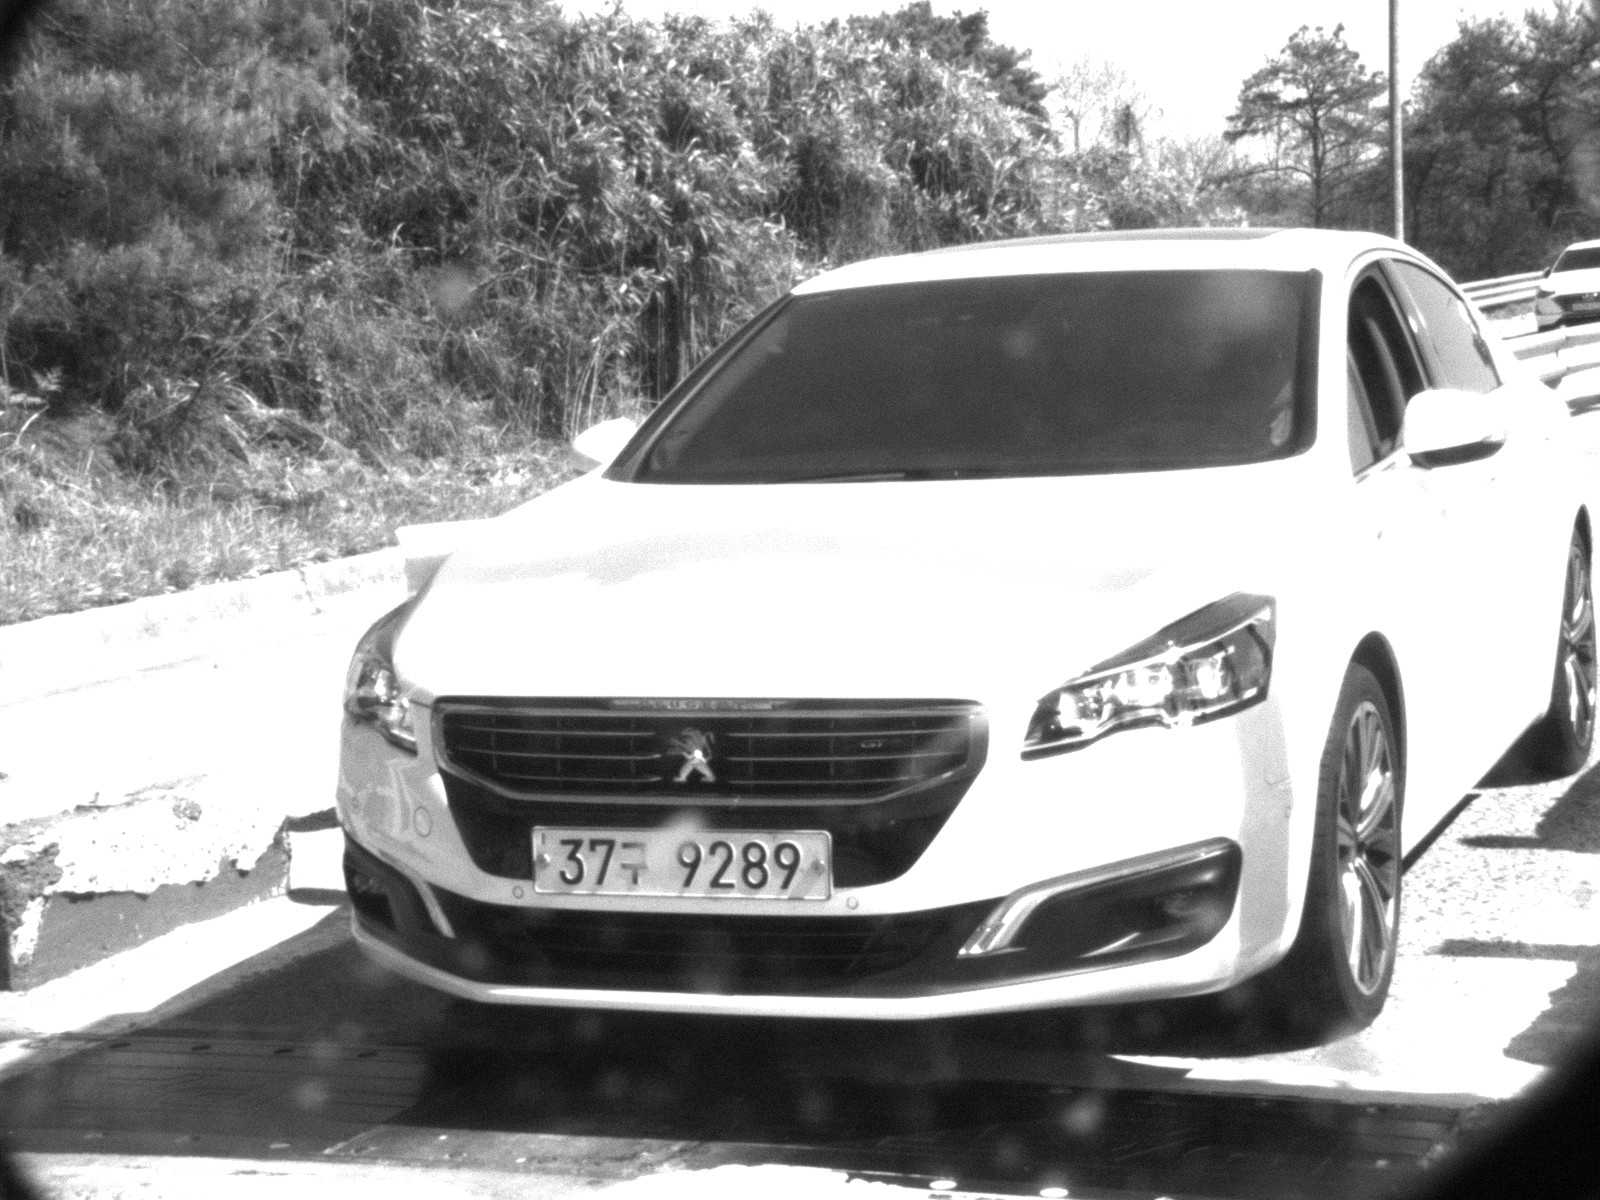car: (334, 225, 1600, 1057), (1527, 233, 1600, 335)
plate: (527, 823, 835, 908)
